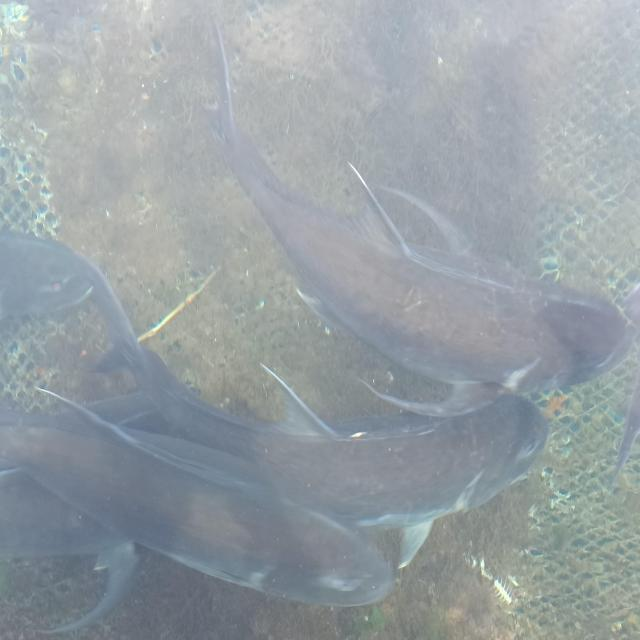ikan: (214, 124, 636, 389)
